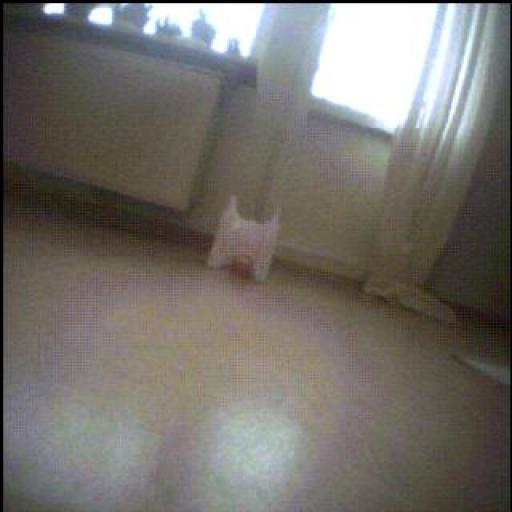Basket: (234, 249, 255, 283)
